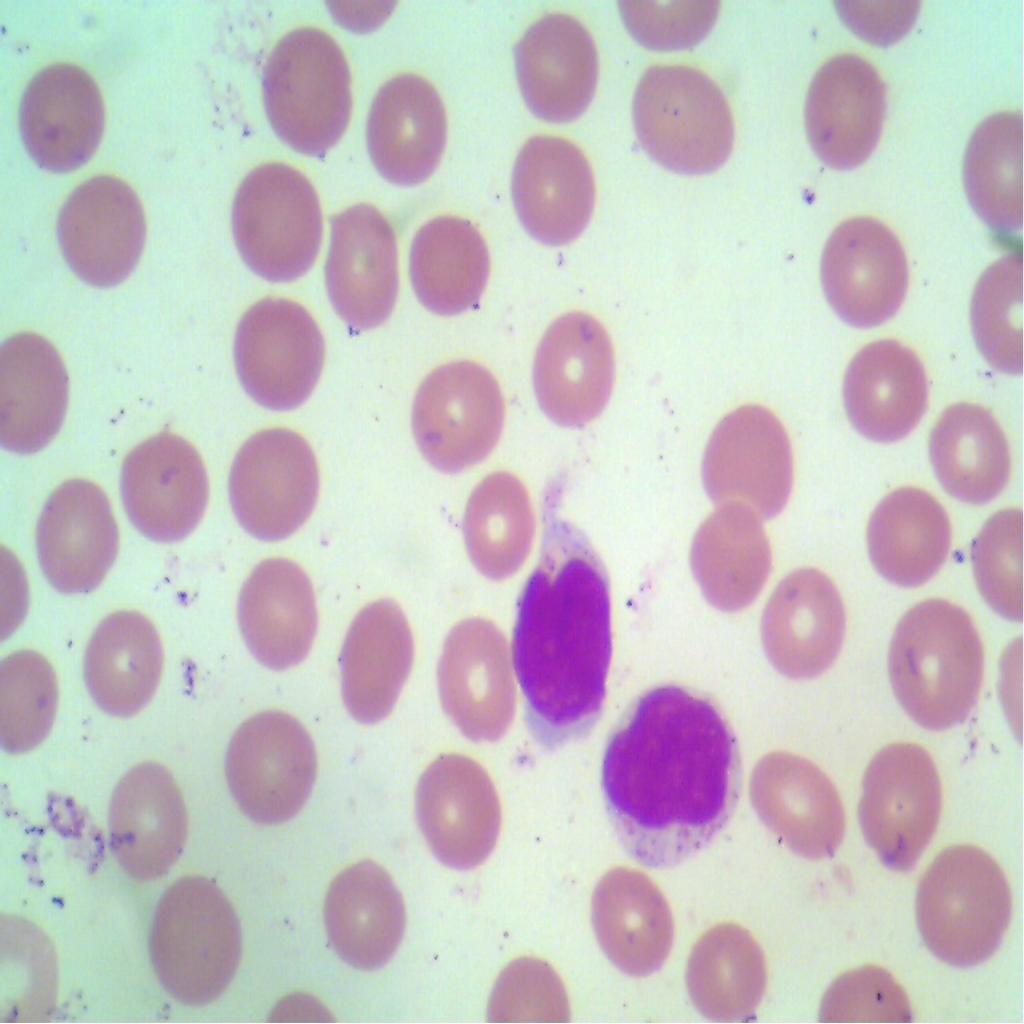Eritrosit: (128, 878, 253, 1023), (746, 738, 858, 884), (616, 59, 739, 191), (396, 346, 514, 479), (883, 592, 993, 734), (909, 832, 1023, 967), (255, 18, 354, 168), (576, 851, 686, 986), (846, 728, 943, 878), (696, 391, 802, 528), (521, 304, 630, 435), (410, 744, 513, 882), (324, 585, 419, 734), (218, 699, 323, 832), (28, 470, 129, 605), (796, 45, 898, 178), (78, 597, 171, 735), (502, 122, 600, 252), (230, 288, 330, 415), (104, 749, 195, 888), (226, 158, 324, 287), (429, 611, 524, 744), (498, 5, 603, 124), (230, 547, 322, 681), (826, 328, 932, 444), (321, 852, 410, 989), (356, 68, 455, 191), (223, 422, 319, 548), (55, 169, 153, 291), (118, 428, 214, 548), (818, 214, 915, 332), (326, 194, 404, 340), (676, 498, 773, 615), (866, 486, 969, 596), (9, 58, 110, 170), (758, 554, 846, 682), (676, 914, 778, 1023), (0, 641, 84, 770), (399, 205, 501, 311), (450, 474, 540, 584), (0, 329, 81, 451), (918, 402, 1021, 492)
Limfosit: (508, 512, 624, 748), (596, 685, 748, 864)
